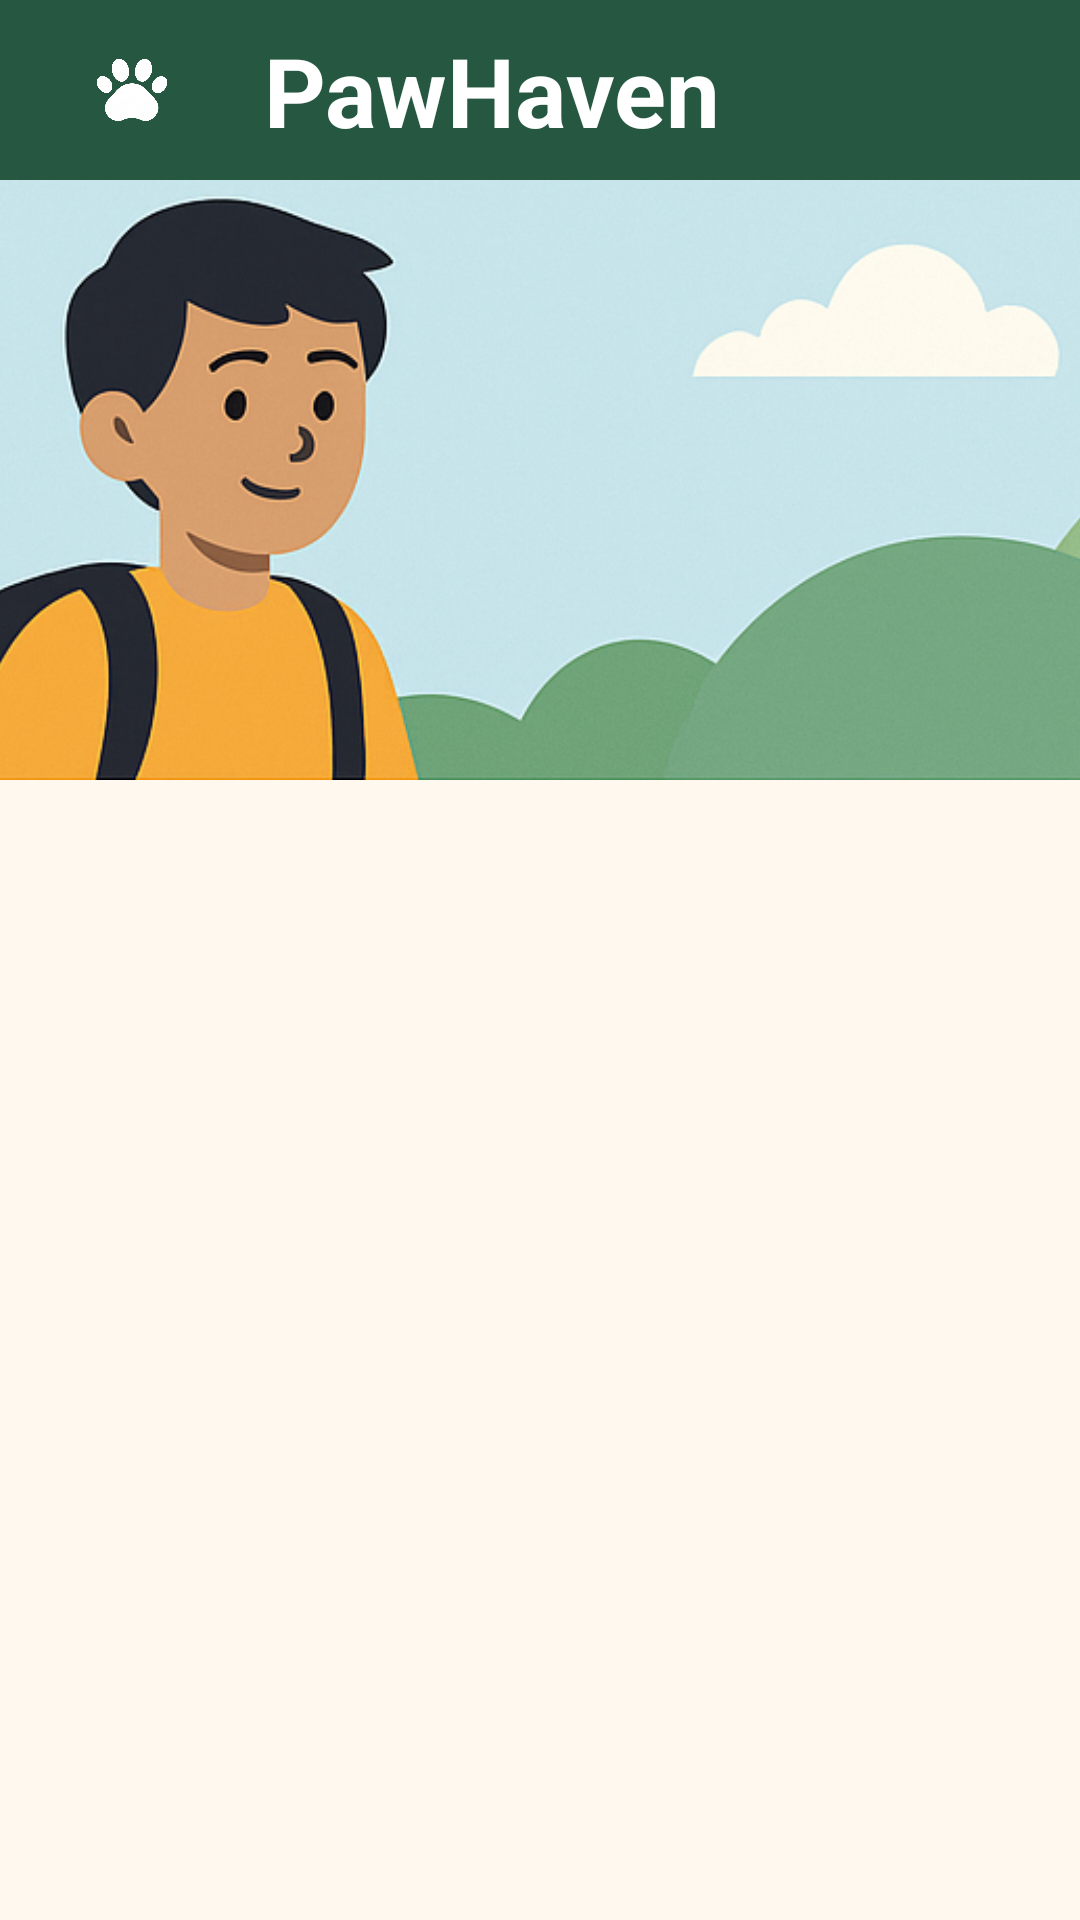

Named icons in this screenshot (1080px x 1920px) and their bounding boxes, [x1,y1,x2,y2]:
Paw icon: [97,59,167,121]
